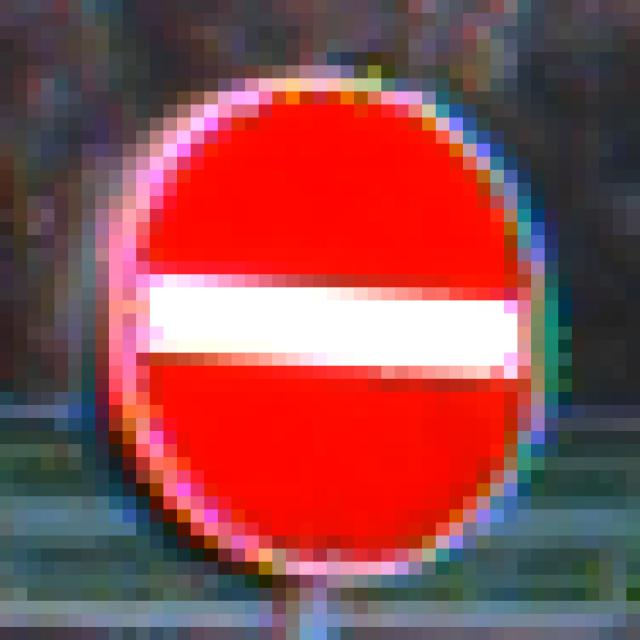No Entry: (83, 79, 573, 576)
